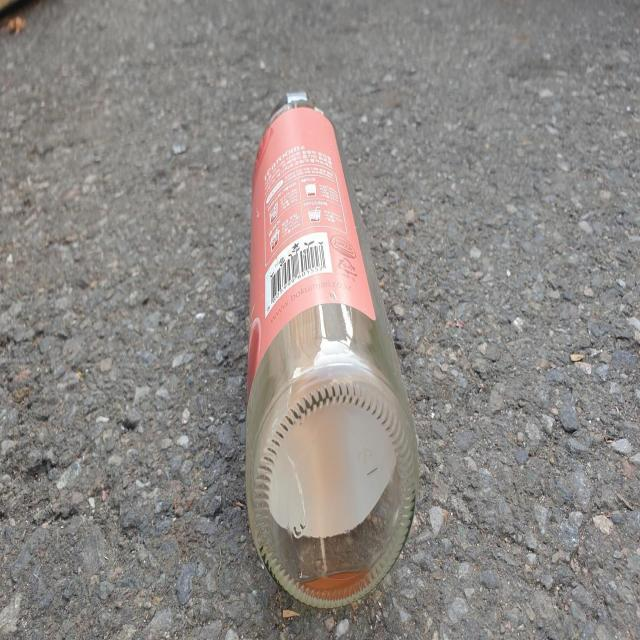glass: (246, 92, 418, 607)
